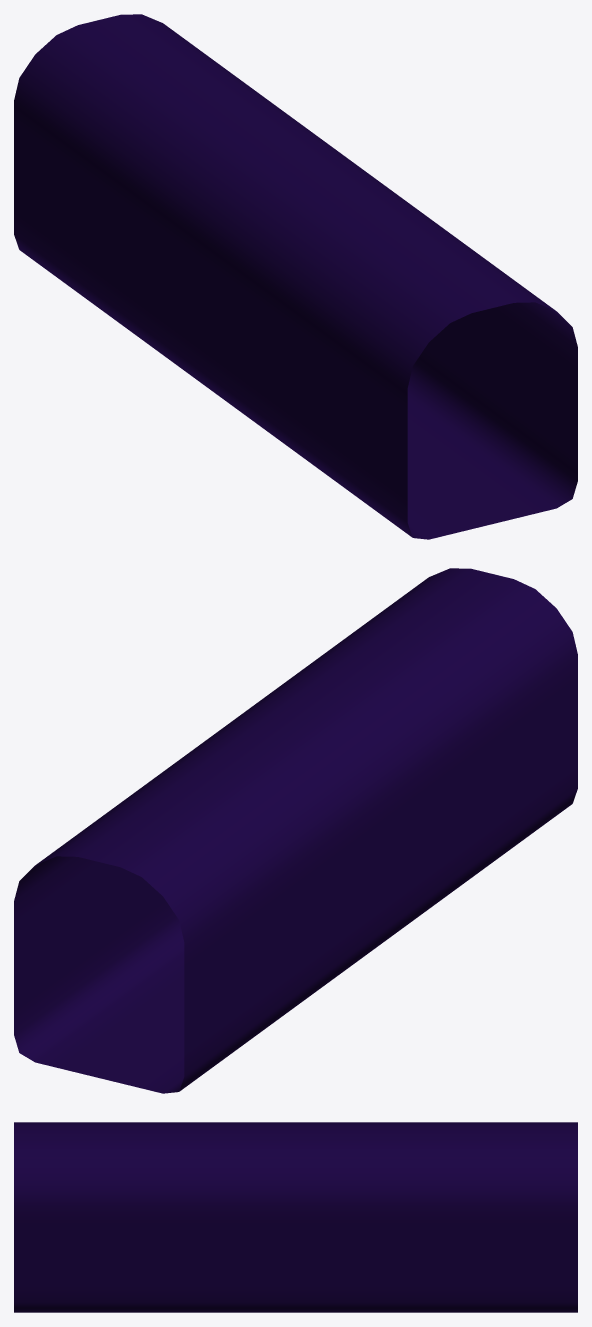
The model's file is space_tile.fbx.
3 renders of one model, top to bottom at view 1: azimuth 30°, elevation 25°; view 2: azimuth 150°, elevation 25°; view 3: azimuth 270°, elevation 25°, orthographic. The views are drawn at different scales.
Parts seen in each view (by area): view 1: space_tile2; view 2: space_tile2; view 3: space_tile2.
Boxes of the visible parts, bbox=[...] form: space_tile2: bbox=[14, 14, 577, 539]; space_tile2: bbox=[14, 568, 577, 1093]; space_tile2: bbox=[14, 1122, 577, 1312].
Size of the model in its own units: 3 by 3.63 by 12.
